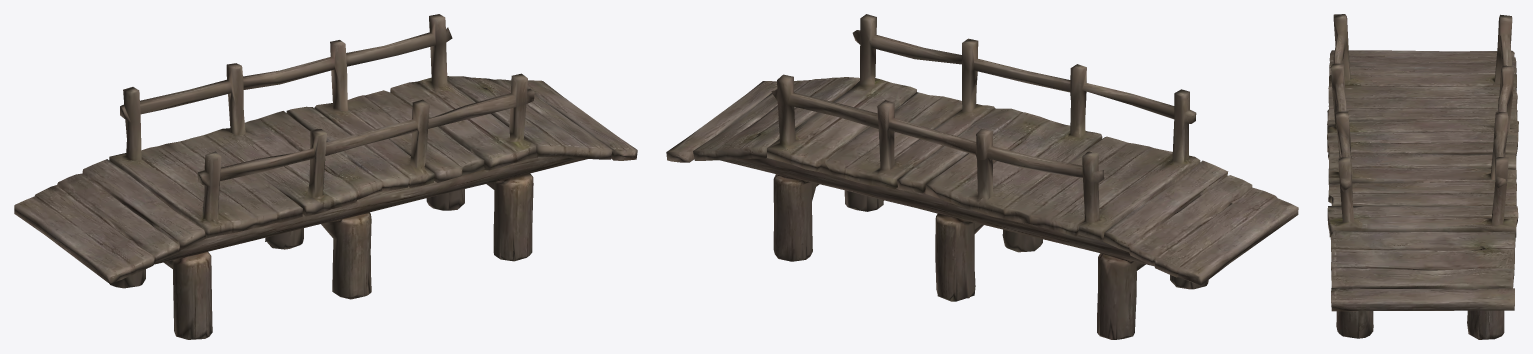
File: kopru.glb
3 views of the same model, side by side, from view 1: azimuth 30°, elevation 25°; view 2: azimuth 150°, elevation 25°; view 3: azimuth 270°, elevation 25° (orthographic). The views are drawn at different scales.
Visible parts, largest first — view 1: tripo_node_73847fd4-97fd-4efa-a9c7-7a62d7e460d3; view 2: tripo_node_73847fd4-97fd-4efa-a9c7-7a62d7e460d3; view 3: tripo_node_73847fd4-97fd-4efa-a9c7-7a62d7e460d3.
Boxes of the visible parts, box(x1,y1,x2,y2) form: tripo_node_73847fd4-97fd-4efa-a9c7-7a62d7e460d3: box(14, 14, 637, 339); tripo_node_73847fd4-97fd-4efa-a9c7-7a62d7e460d3: box(666, 14, 1298, 339); tripo_node_73847fd4-97fd-4efa-a9c7-7a62d7e460d3: box(1327, 14, 1518, 339).
Size of the model in its own units: 0.9794 by 0.3195 by 0.3199.
Materials: 1 (1 with a texture image).
